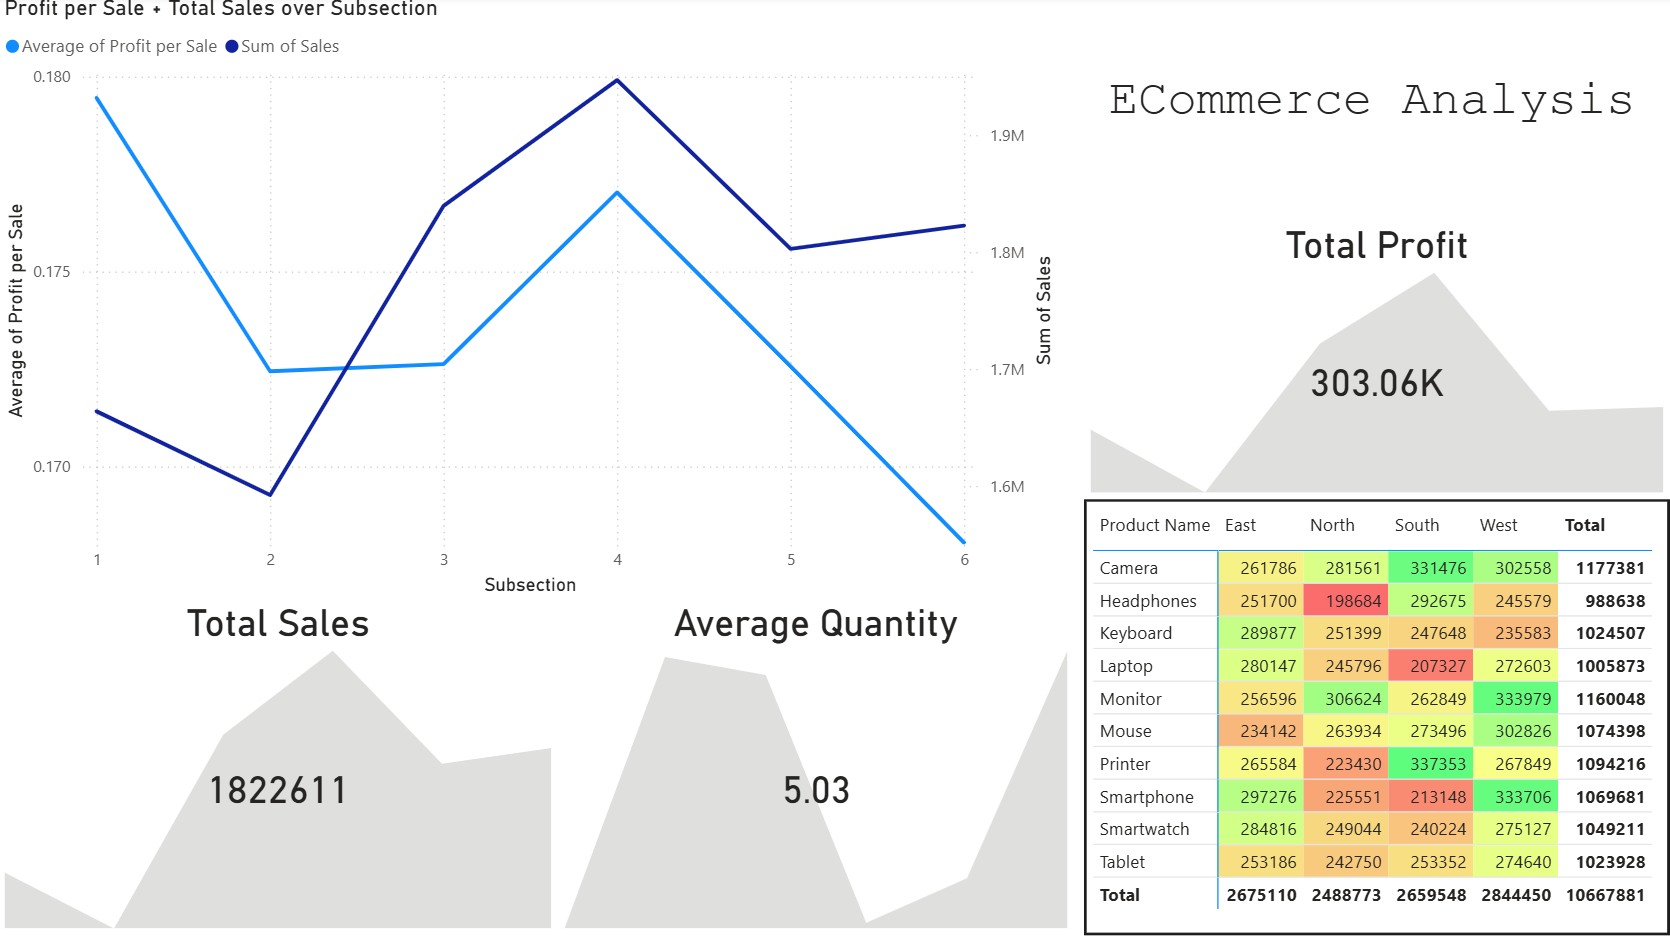

This screenshot's page, from the dashboard's own definition file:
{"tool":"powerbi","page":{"name":"Page 1","canvas":[1280,720],"ordinal":0},"visuals":[{"type":"pivotTable","fields":{"Rows":["ecommerce_added_columns (4).Product Name"],"Values":["Sum(ecommerce_added_columns (4).Sales)"],"Columns":["ecommerce_added_columns (4).Region"]},"box":[831.4,385.8,448.6,333.8],"z":0},{"type":"kpi","fields":{"Indicator":["Sum(ecommerce_added_columns (4).Profit)"],"TrendLine":["ecommerce_added_columns (4).Subsection"]},"box":[831.4,231.2,448.6,154.6],"z":1000},{"type":"kpi","fields":{"Indicator":["Sum(ecommerce_added_columns (4).Sales)"],"TrendLine":["ecommerce_added_columns (4).Subsection"]},"box":[0,463.9,831.4,255.7],"z":2000},{"type":"textbox","title":"g","box":[824,55,456,178],"z":3000},{"type":"lineChart","fields":{"Category":["ecommerce_added_columns (4).Subsection"],"Y2":["Sum(ecommerce_added_columns (4).Sales)"],"Y":["Avg(ecommerce_added_columns (4).Profit per Sale)"]},"box":[0,55.1,813,408.8],"z":4000}]}

Visuals, with their boxes in screenshot pixels (x1, y1, x2, y2), scaled from the page's 1280x720 canvas onto the 1670x936 screenshot:
pivotTable - ecommerce_added_columns (4).Product Name x Sum(ecommerce_added_columns (4).Sales): x1=1085, y1=502, x2=1669, y2=935
kpi - Sum(ecommerce_added_columns (4).Profit) x ecommerce_added_columns (4).Subsection: x1=1085, y1=301, x2=1669, y2=502
kpi - Sum(ecommerce_added_columns (4).Sales) x ecommerce_added_columns (4).Subsection: x1=0, y1=603, x2=1085, y2=935
"g" textbox: x1=1075, y1=72, x2=1669, y2=303
lineChart - ecommerce_added_columns (4).Subsection x Sum(ecommerce_added_columns (4).Sales): x1=0, y1=72, x2=1061, y2=603
